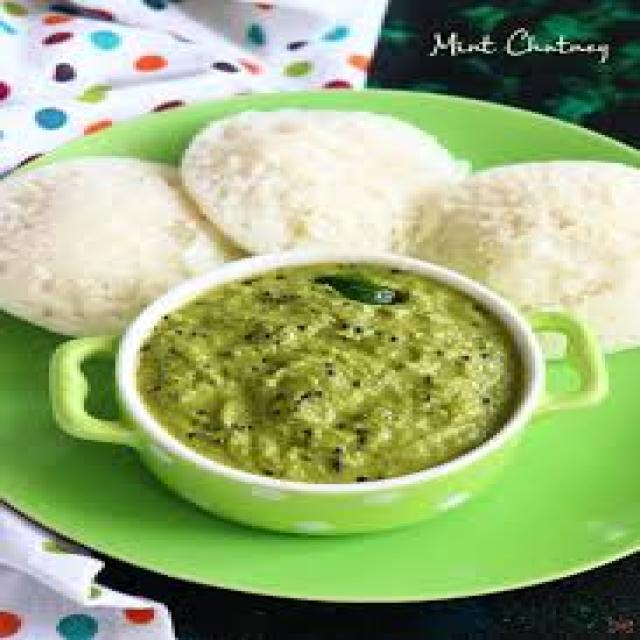GREEN CHUTNEY: (140, 265, 514, 482)
IDLI: (0, 109, 637, 340)
